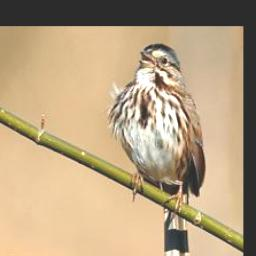Sparrow: (106, 42, 207, 256)
